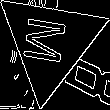M_E: (23, 16, 77, 69)
